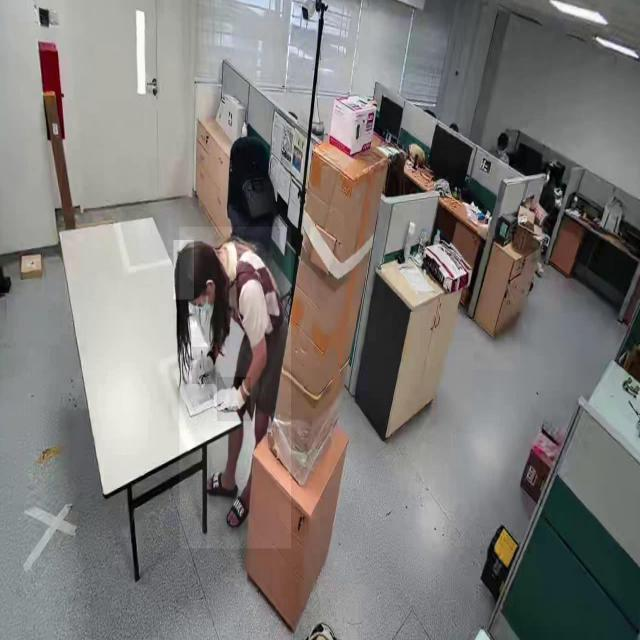gloves: (217, 377, 251, 422), (192, 346, 216, 384)
